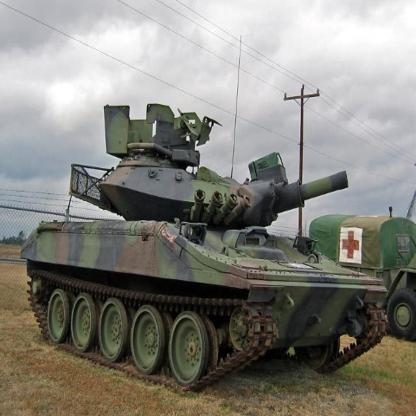Tank: (23, 97, 388, 385)
